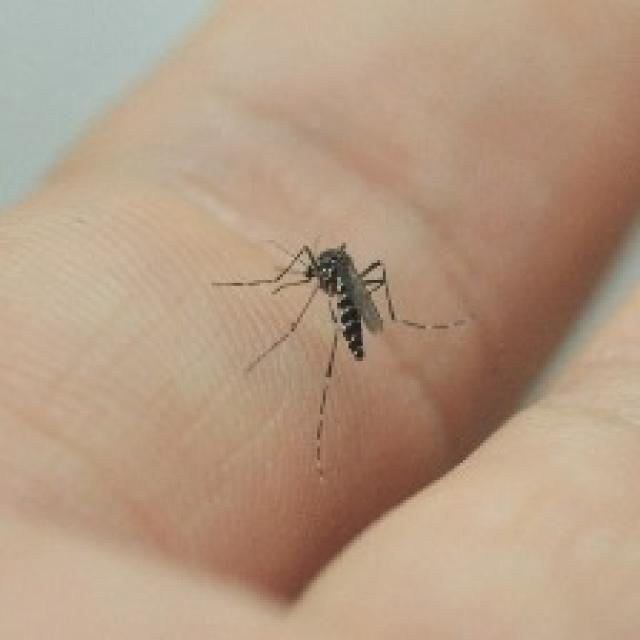aedes: (208, 234, 468, 480)
